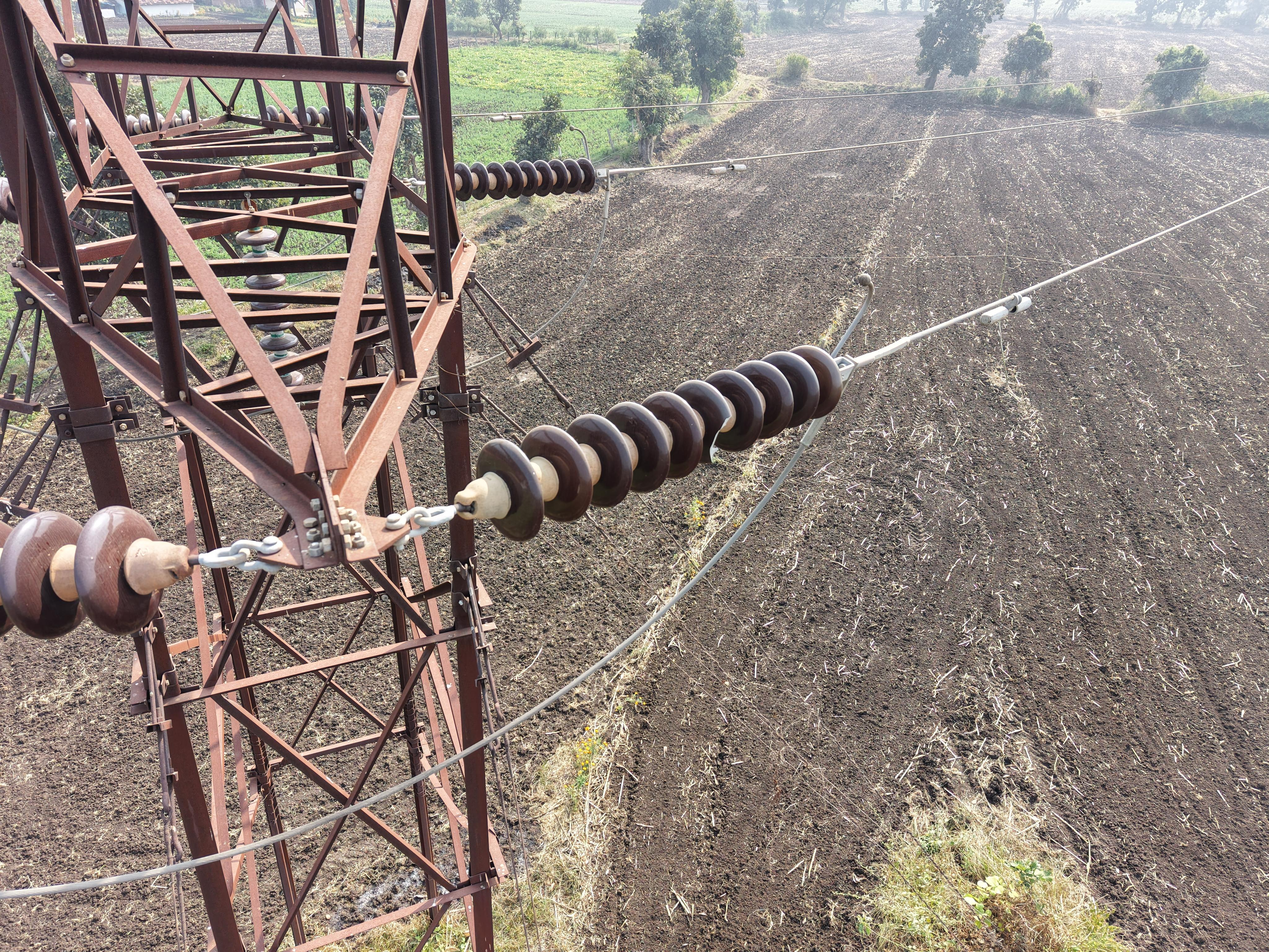broken_insulator: (681, 372, 748, 466)
